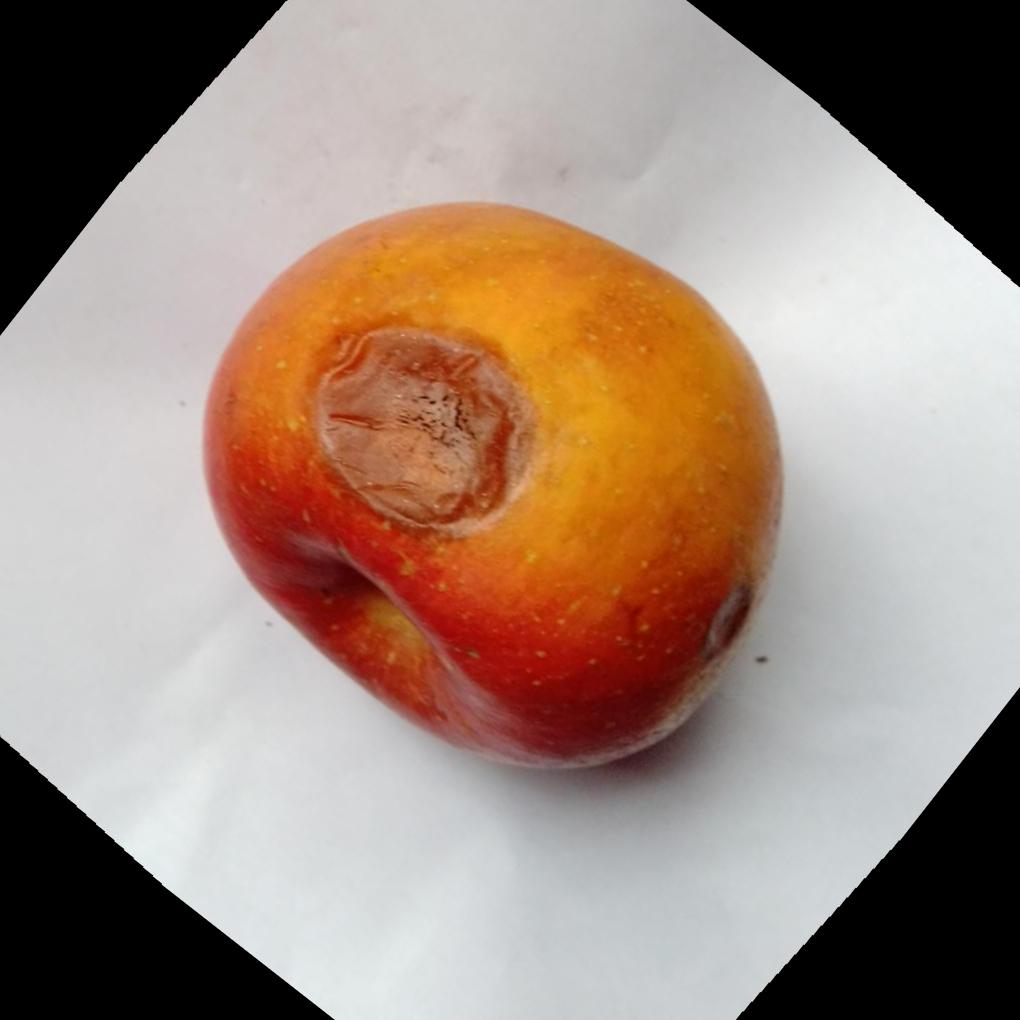FreshOrange: (197, 200, 782, 775)
